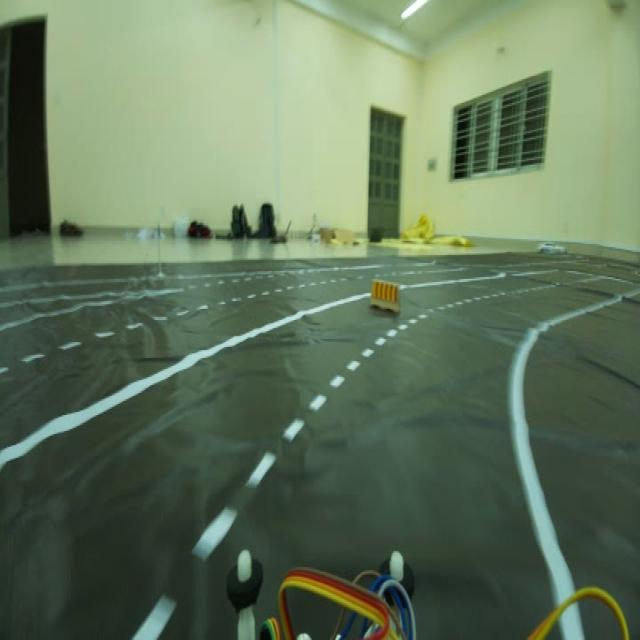roadblock: (362, 272, 410, 319)
